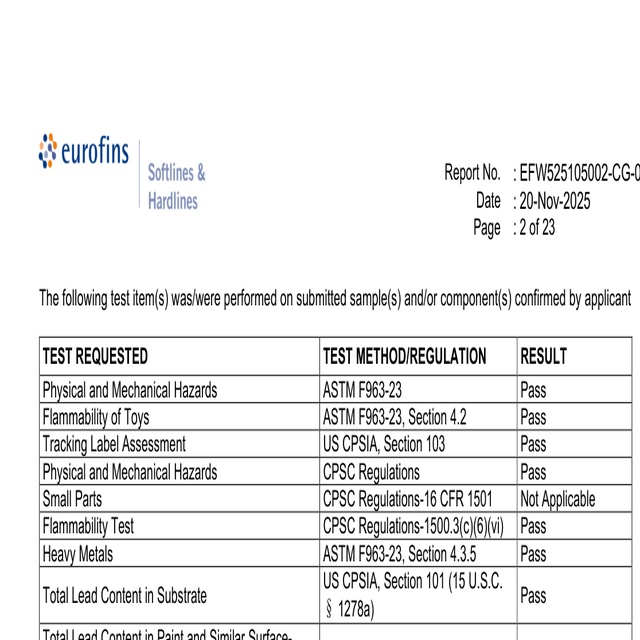eurofins: (34, 126, 137, 173)
